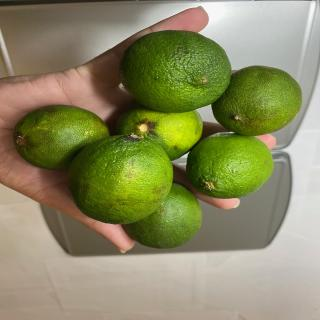Chilli: (13, 29, 302, 251)
Lemon: (67, 133, 174, 225), (118, 30, 232, 113), (12, 104, 110, 171), (211, 65, 303, 136), (186, 131, 274, 199), (122, 182, 202, 249), (115, 104, 203, 161)
